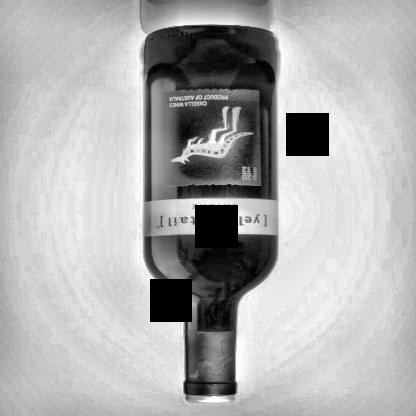yellowtail: (142, 82, 276, 235)
